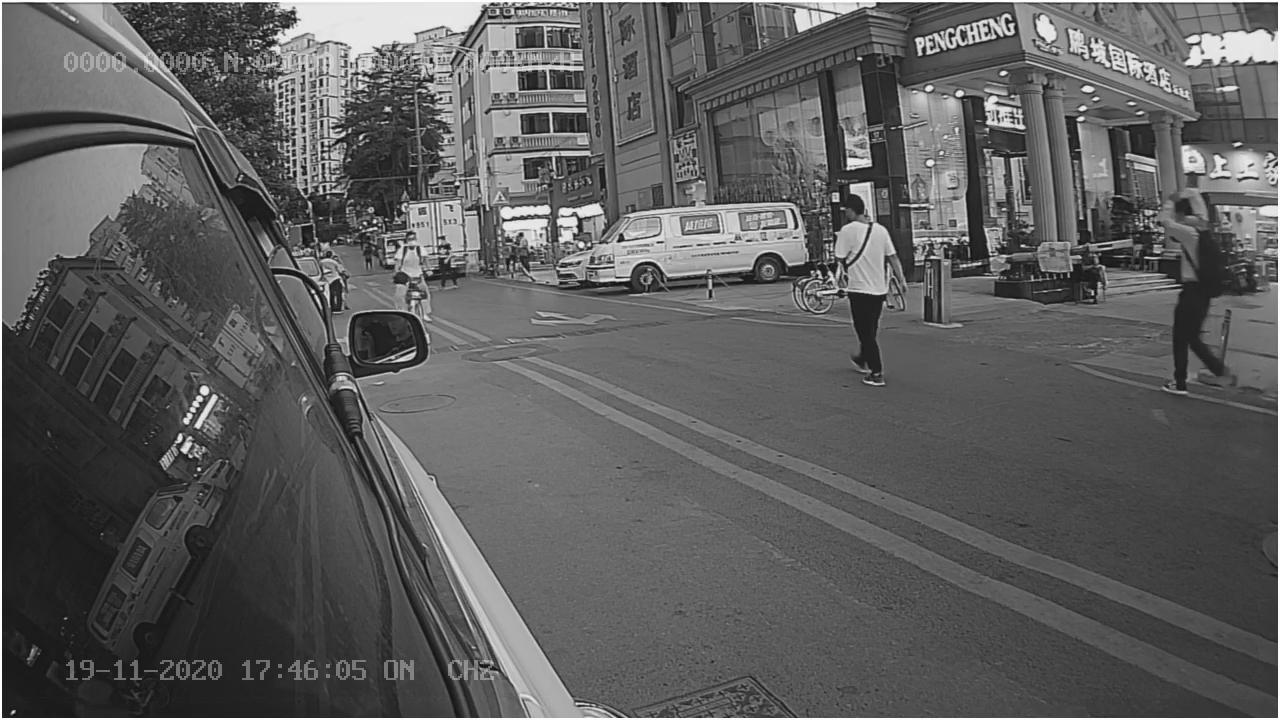person: (829, 183, 909, 397)
